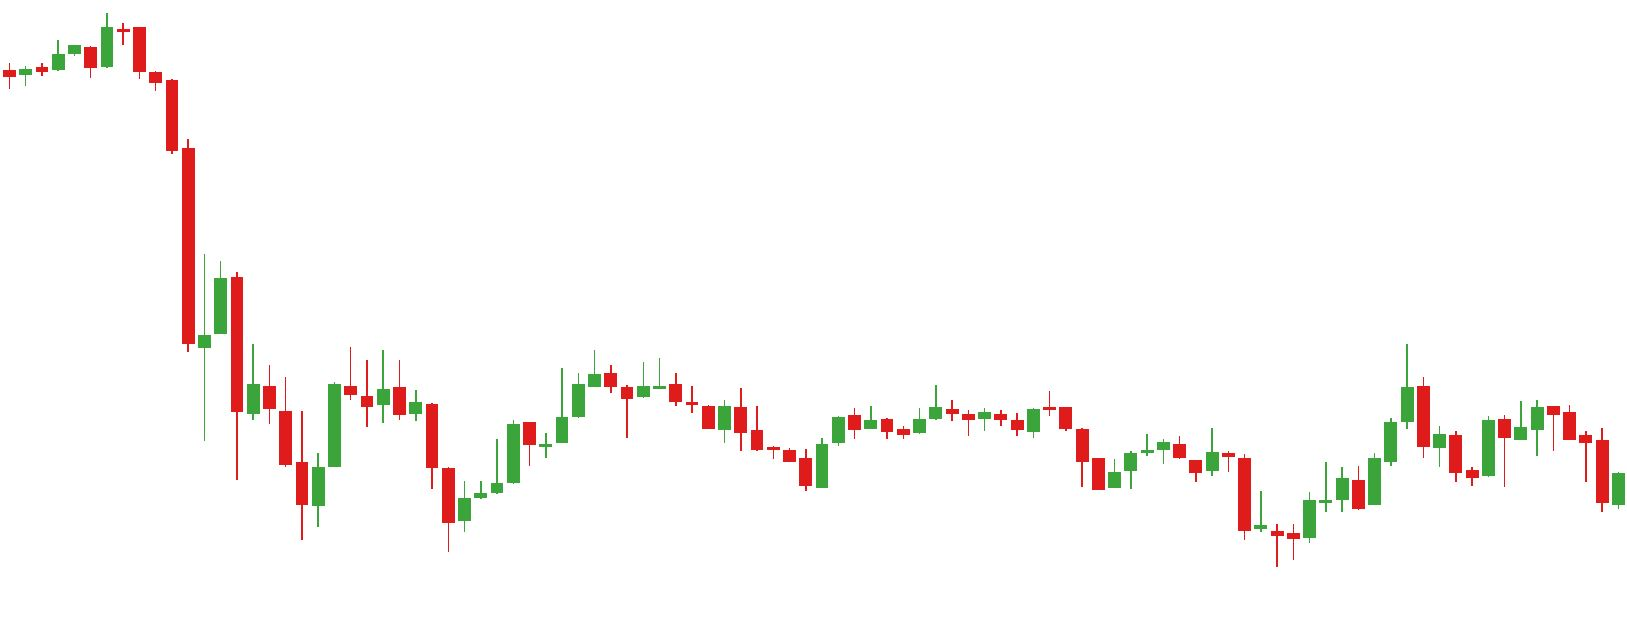buy: (296, 429, 473, 547)
sell: (1041, 347, 1434, 490)
